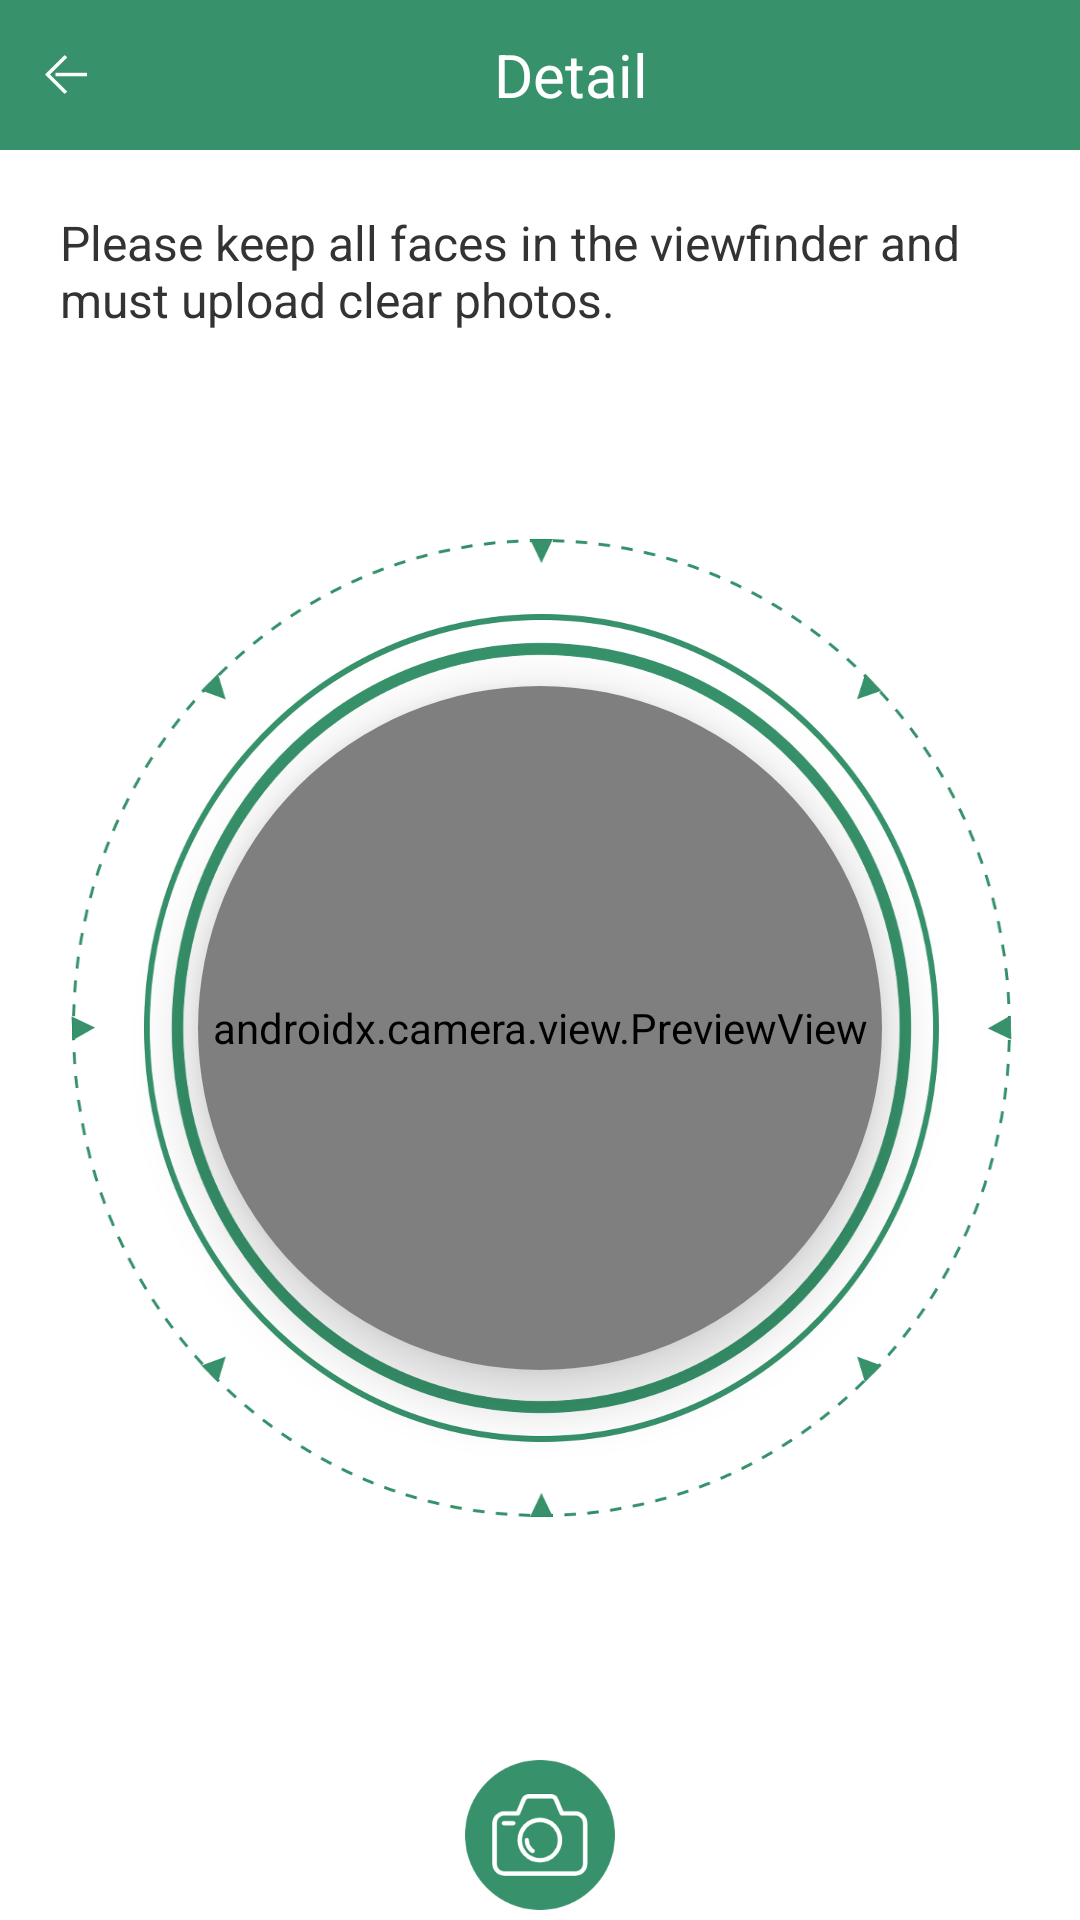

Where icons sit on this 1080*1920 app screen, as (x1=x1, y1=y1, x2=x2, y2=y2):
back: (x1=45, y1=55, x2=87, y2=94)
takcam: (x1=465, y1=1760, x2=615, y2=1910)
